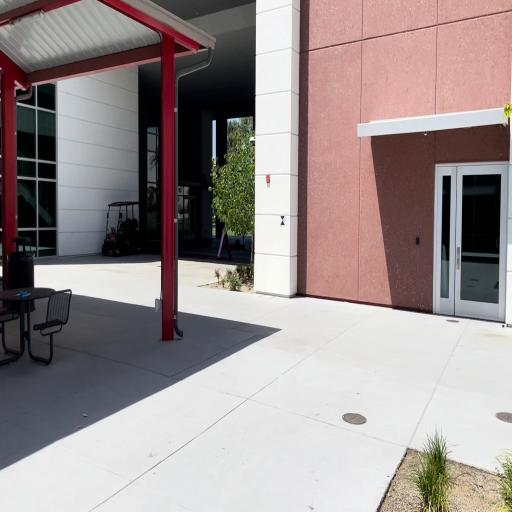target9: (280, 215, 285, 226)
